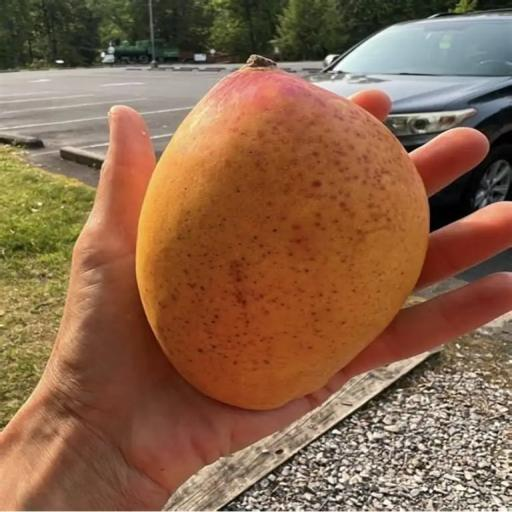mango: (136, 56, 428, 409)
